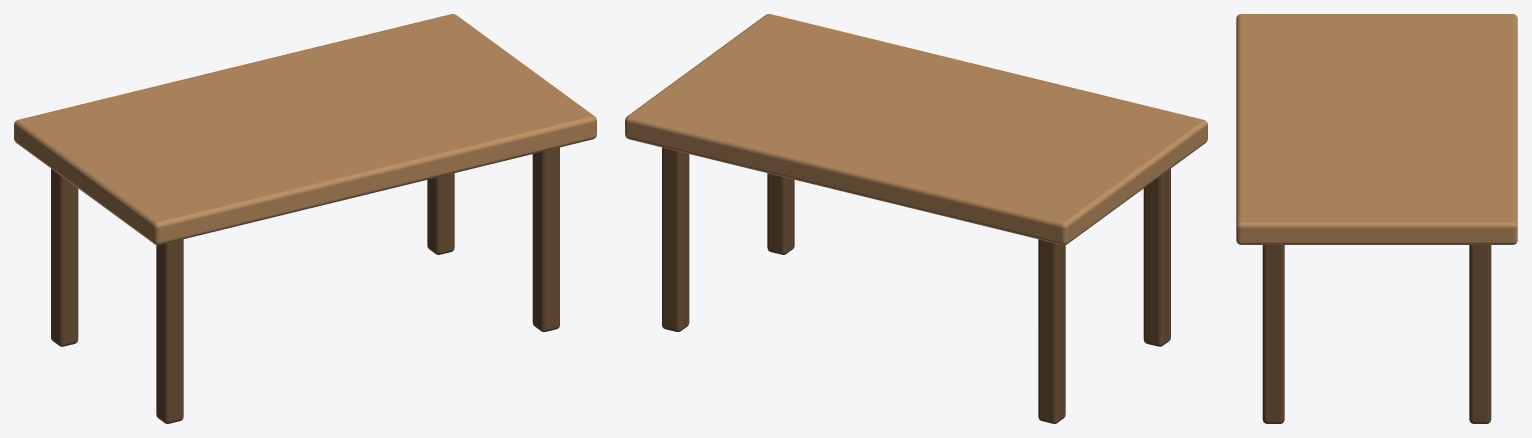
File: fold-dining-table.glb
3 views of the same model, side by side, from view 1: azimuth 30°, elevation 25°; view 2: azimuth 150°, elevation 25°; view 3: azimuth 270°, elevation 25° (orthographic). The views are drawn at different scales.
Parts seen in each view (by area): view 1: Tabletop, Leg (×4); view 2: Tabletop, Leg (×4); view 3: Tabletop, Leg (×2).
Boxes of the visible parts, x1=… form: Tabletop: x1=14, y1=14, x2=596, y2=245; Leg (×4): x1=51, y1=147, x2=559, y2=423; Tabletop: x1=625, y1=14, x2=1207, y2=245; Leg (×4): x1=662, y1=147, x2=1170, y2=423; Tabletop: x1=1236, y1=14, x2=1517, y2=244; Leg (×2): x1=1262, y1=245, x2=1491, y2=423.
Size of the model in its own units: 1.6 by 0.75 by 0.9.
